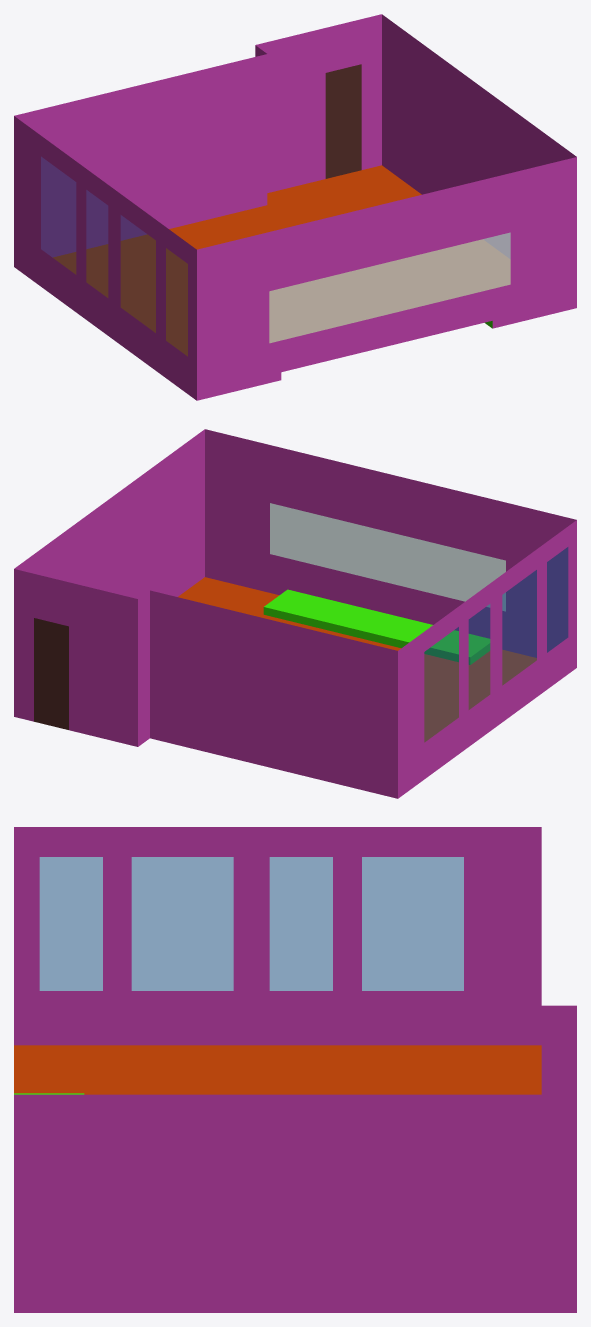
File: classroom1.fbx
3 views of the same model, one above another, from view 1: azimuth 30°, elevation 25°; view 2: azimuth 150°, elevation 25°; view 3: azimuth 270°, elevation 25° (orthographic). The views are drawn at different scales.
Visible parts, largest first — view 1: Model; view 2: Model; view 3: Model.
Boxes of the visible parts, bbox=[...] form: Model: bbox=[14, 14, 576, 400]; Model: bbox=[14, 429, 576, 798]; Model: bbox=[14, 827, 576, 1312].
Bounding box in the file's own units: 9 × 3.42 × 8.
